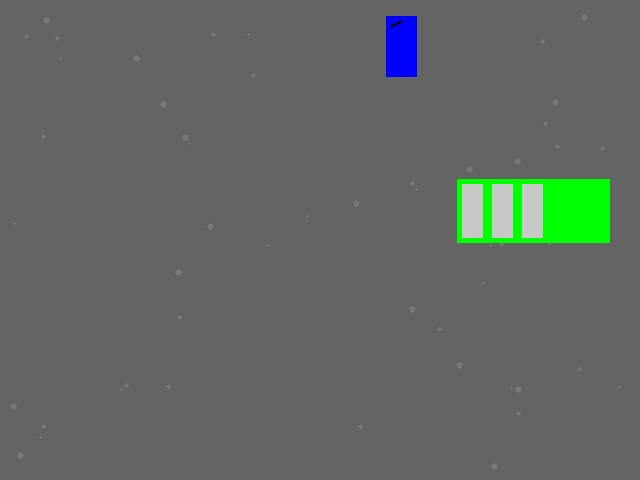bus: (457, 179, 609, 242)
motorcycle: (386, 16, 416, 76)
